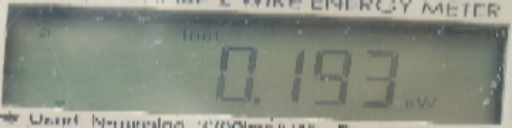0: (217, 38, 255, 101)
1: (285, 45, 305, 105)
3: (361, 47, 400, 109)
9: (312, 45, 351, 109)
d: (252, 92, 268, 110)
